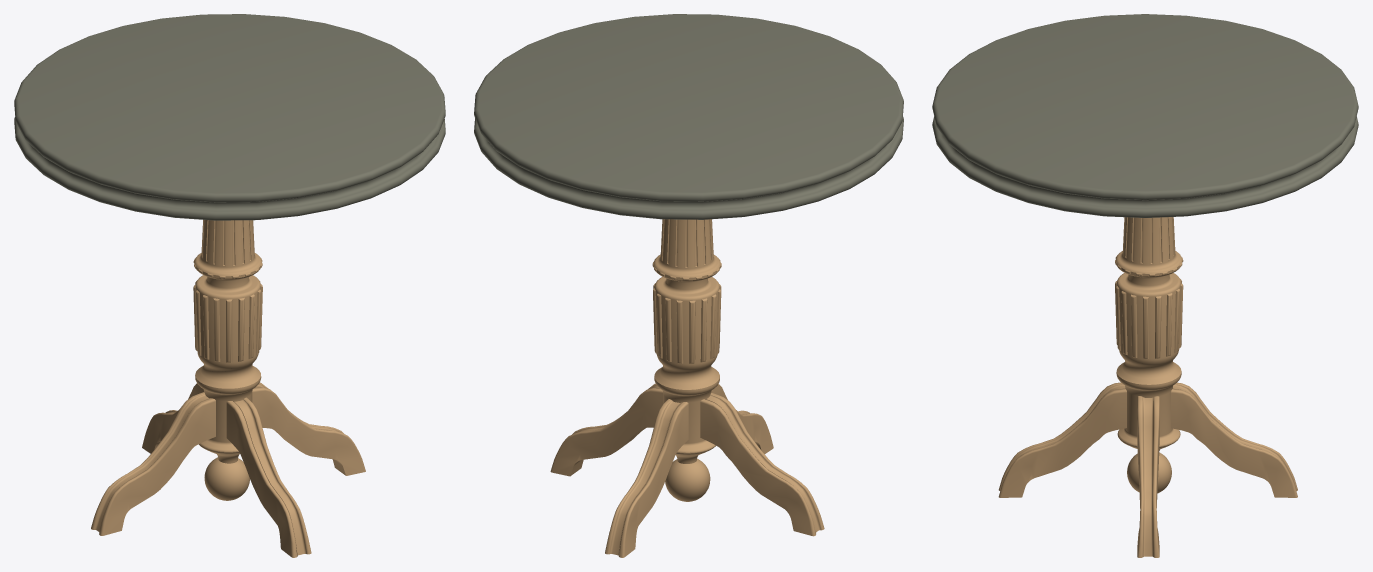
3 renders of one model, left to right at view 1: azimuth 30°, elevation 25°; view 2: azimuth 150°, elevation 25°; view 3: azimuth 270°, elevation 25°, orthographic.
Parts seen in each view (by area): view 1: Cube.035_Cube.019_0; view 2: Cube.035_Cube.019_0; view 3: Cube.035_Cube.019_0.
Boxes of the visible parts, x1,y1,x2,y2 form: Cube.035_Cube.019_0: (14,14,445,557); Cube.035_Cube.019_0: (474,14,903,557); Cube.035_Cube.019_0: (932,14,1358,557).
Bounding box in the file's own units: 0.8254 × 0.8363 × 0.8254.
